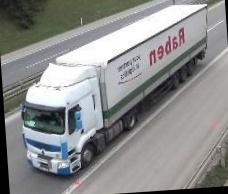truck: (12, 3, 218, 179)
